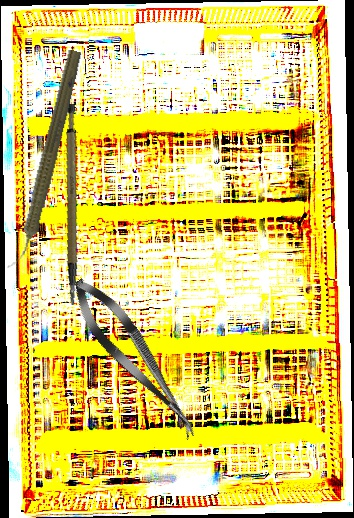Handpiece: (4, 47, 87, 274)
Micro Scissor: (61, 269, 210, 448)
Scalpel Handle: (35, 102, 104, 306)
